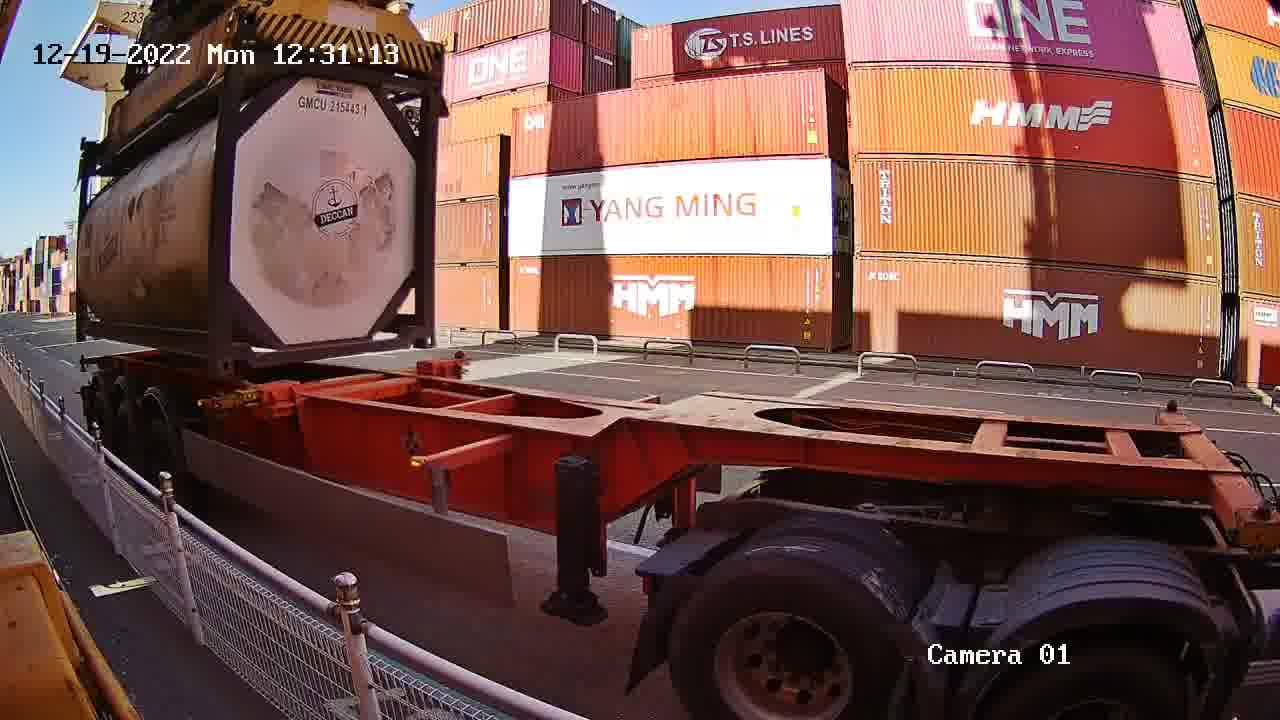Chassis: (201, 365, 419, 410)
Hole_L: (217, 342, 250, 375)
Hole_R: (401, 310, 435, 347)
Tire: (143, 409, 170, 470), (115, 402, 137, 457), (87, 390, 107, 429)
